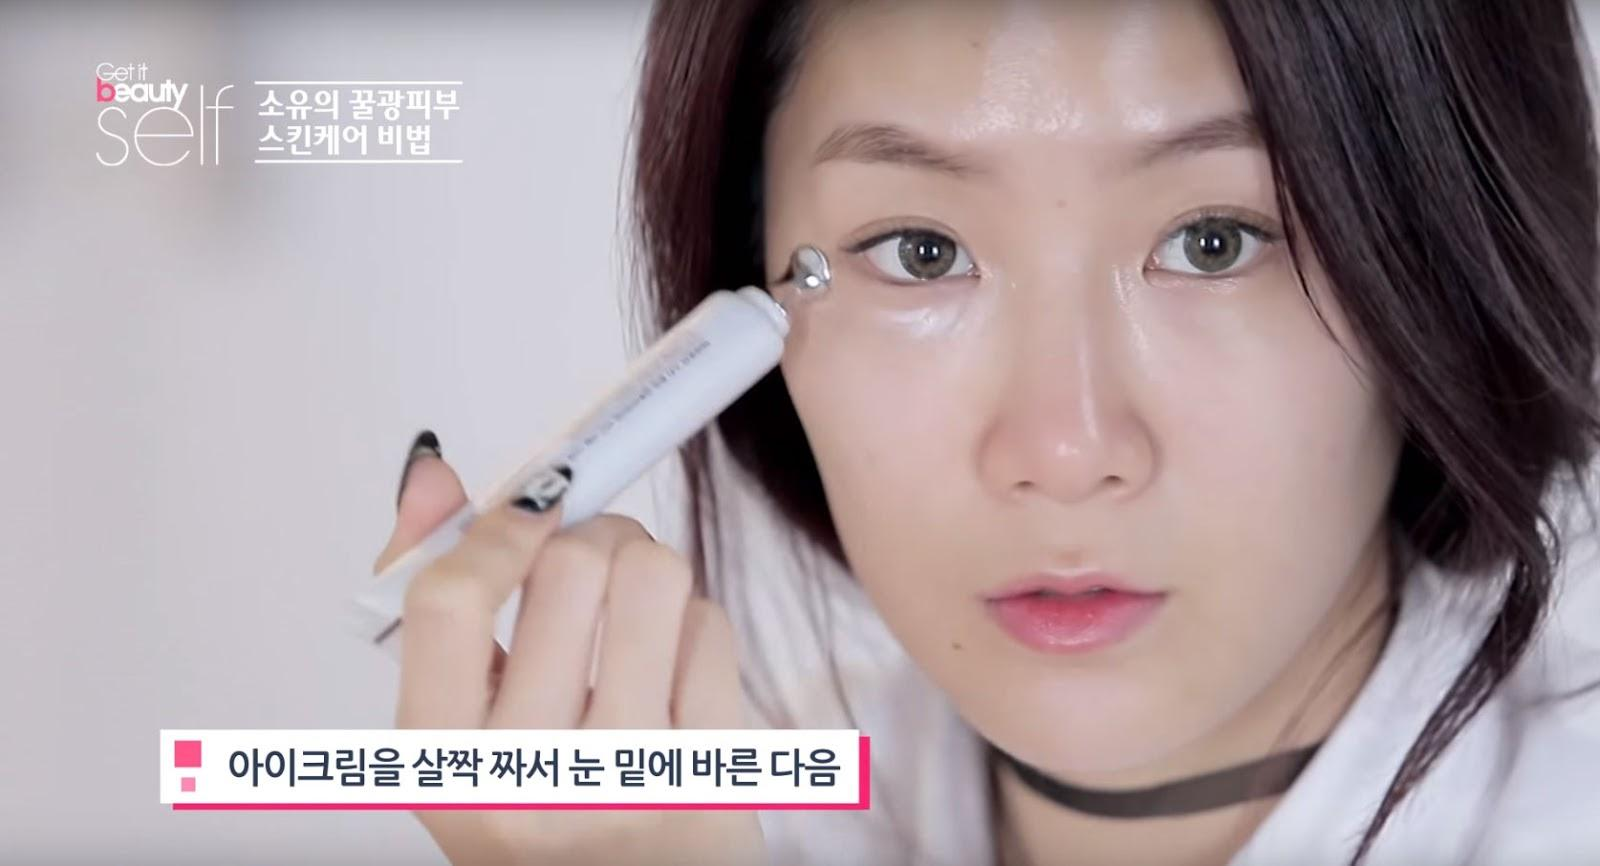Oily-Skin: (974, 4, 1087, 156), (1100, 0, 1176, 139), (1100, 256, 1169, 385), (1065, 320, 1110, 453), (876, 294, 977, 351)
